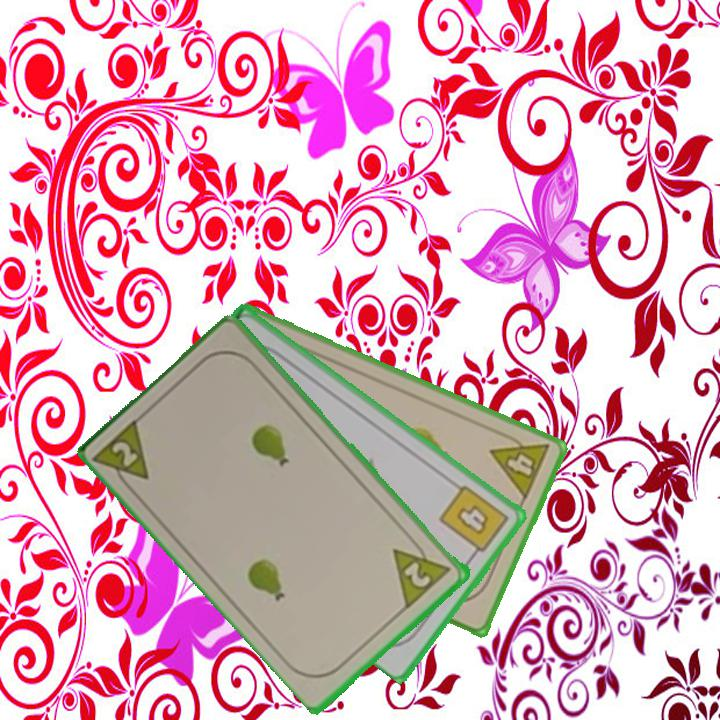2p: (91, 413, 153, 497), (400, 558, 434, 591)
4b: (435, 481, 512, 562)
4p: (486, 426, 553, 503)
